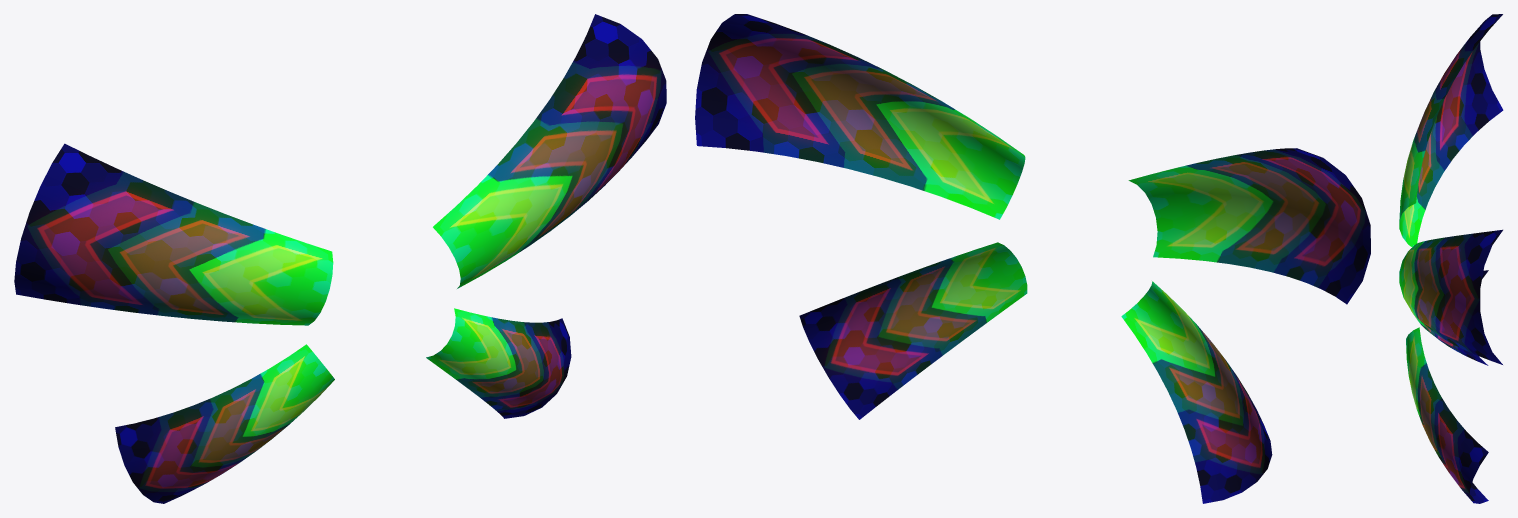
File: Fx_Mesh_VivSkill_1_2.fbx
3 views of the same model, side by side, from view 1: azimuth 30°, elevation 25°; view 2: azimuth 150°, elevation 25°; view 3: azimuth 270°, elevation 25° (orthographic). The views are drawn at different scales.
Parts seen in each view (by area): view 1: Fx_Mesh_VivSkill_1_2; view 2: Fx_Mesh_VivSkill_1_2; view 3: Fx_Mesh_VivSkill_1_2.
Boxes of the visible parts, box(x1,y1,x2,y2) form: Fx_Mesh_VivSkill_1_2: box(14, 14, 666, 503); Fx_Mesh_VivSkill_1_2: box(695, 14, 1370, 503); Fx_Mesh_VivSkill_1_2: box(1399, 14, 1503, 503).
Size of the model in its own units: 262 by 144 by 43.55.
